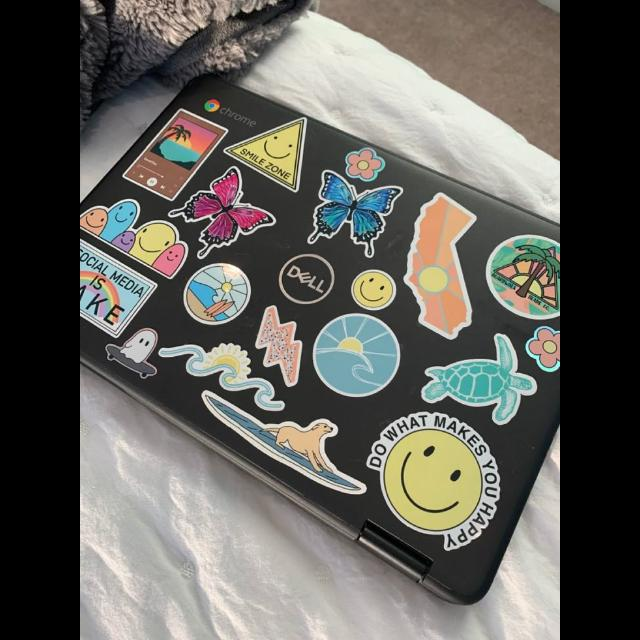laptop: (80, 66, 560, 602)
